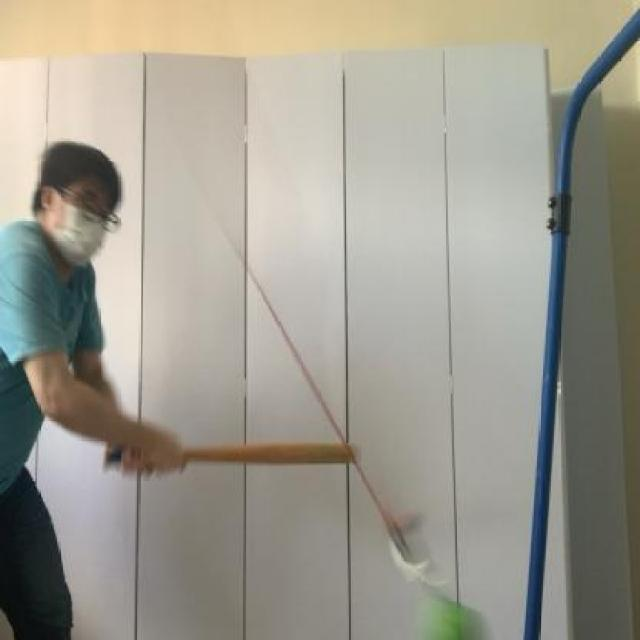baseball: (408, 578, 498, 640)
